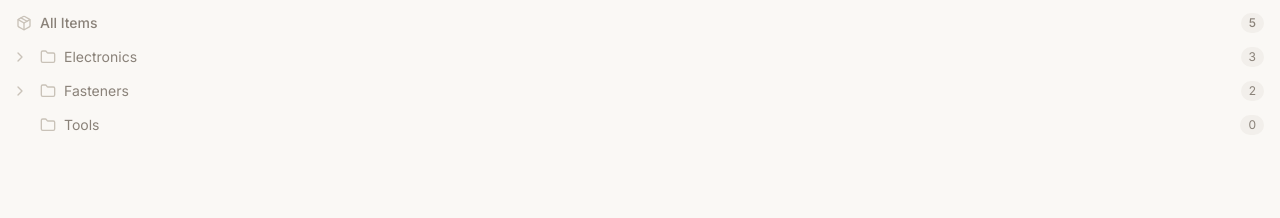
InventorySidebar › expand/collapse › should show subcategory item counts when expanded
Click the button named "expand electronics" at (20, 57), box [8,45,32,69]
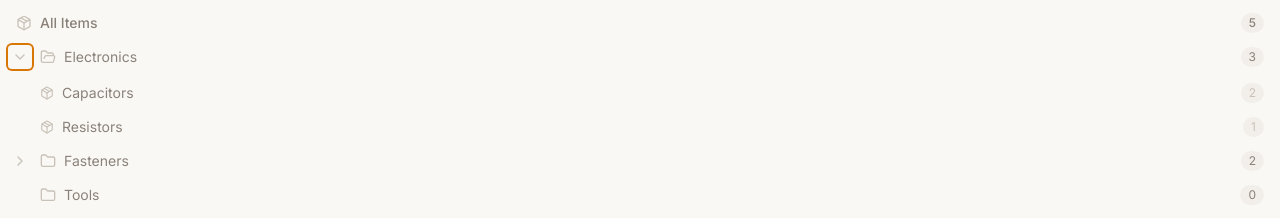
Now the 1st text "2" is shown, box [1241,83,1264,103]
Now the text "1" is shown, box [1243,117,1264,137]
